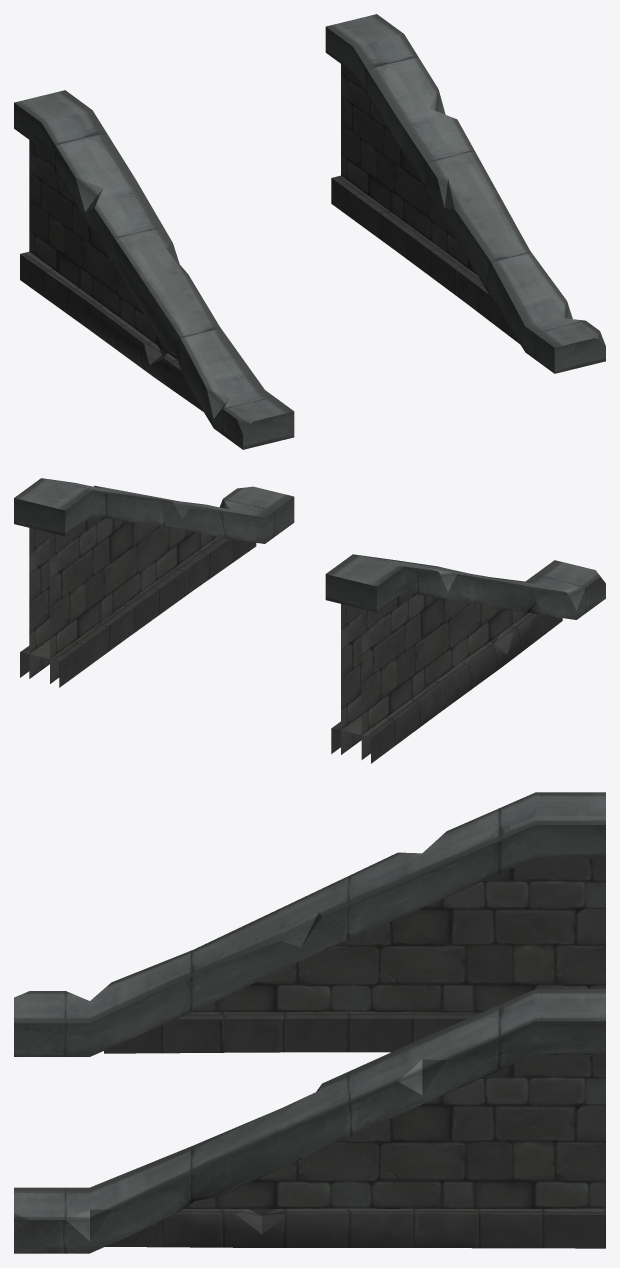
Rendered from sewer_stairside002.FBX.
The picture shows the model from 3 angles, top to bottom: view 1: azimuth 30°, elevation 25°; view 2: azimuth 150°, elevation 25°; view 3: azimuth 270°, elevation 25°; orthographic projection. The views are drawn at different scales.
Visible parts, largest first — view 1: sewer_stairside002; view 2: sewer_stairside002; view 3: sewer_stairside002.
Boxes of the visible parts, bbox=[...] form: sewer_stairside002: bbox=[14, 14, 605, 449]; sewer_stairside002: bbox=[14, 478, 605, 763]; sewer_stairside002: bbox=[14, 792, 605, 1253].
Size of the model in its own units: 826 by 391 by 903.
